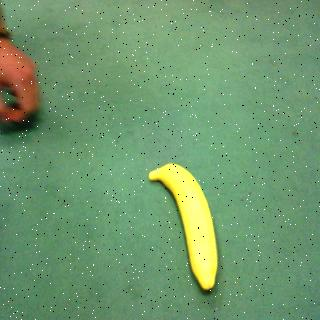banana: (144, 156, 222, 309)
